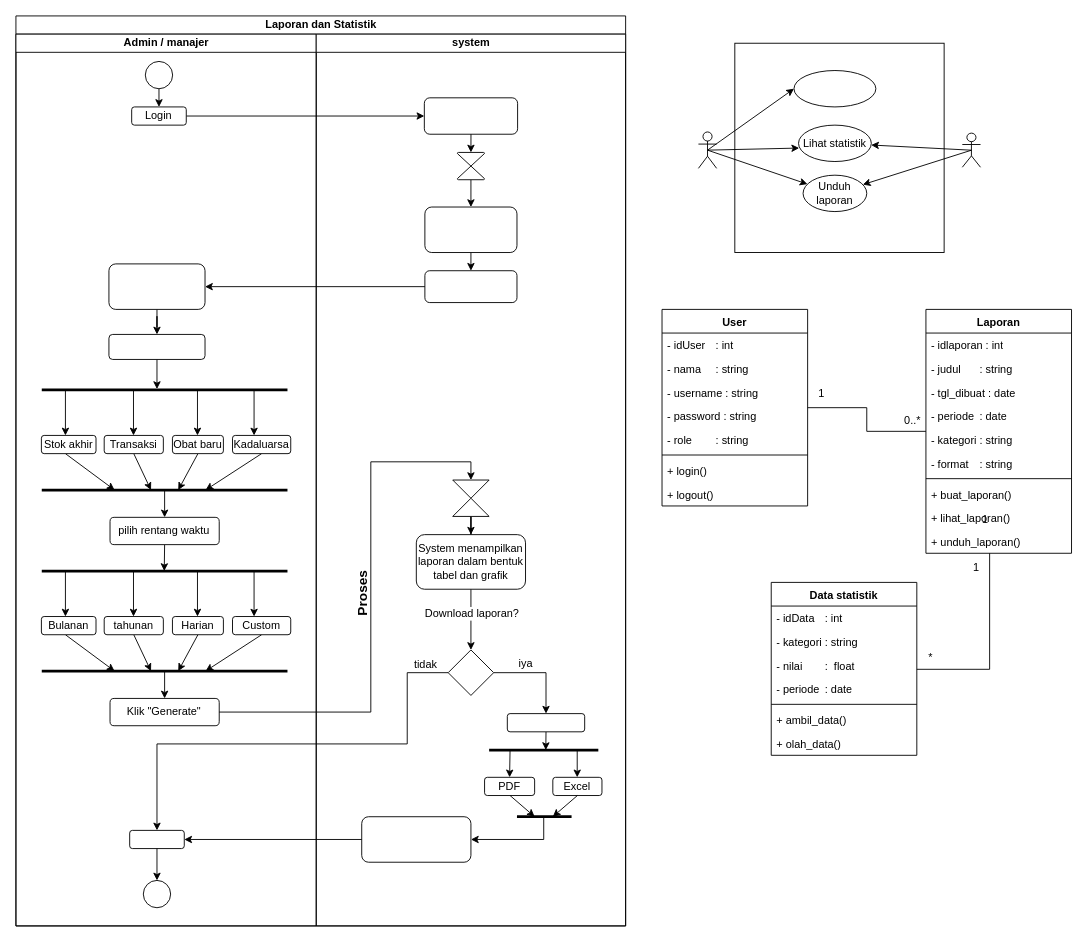
This 1087x942 diagram has some shape labels left out. Each missing label, with the centre of its shape:
Admin: point (707, 149)
Buat laporan: point (834, 88)
Level akses diverifikasi sebagai Manajer: point (470, 229)
Logout: point (156, 839)
Manajer: point (971, 149)
Memverifikasi level akses: point (470, 115)
Menampilkan Dashboard: point (470, 286)
Menampilkan konfrimasi download berhasil: point (416, 839)
mengakses menu "Saporan dan Statistik": point (156, 286)
Pilih jenis laporan: point (156, 346)
Unduh sebagai: point (545, 722)
